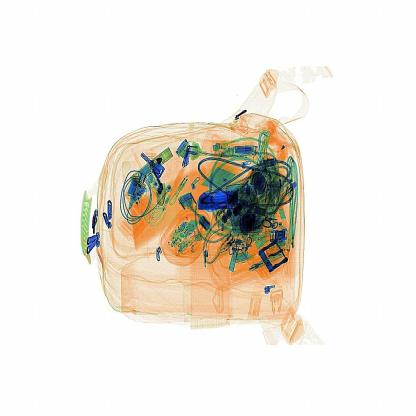knife: (191, 182, 243, 218)
